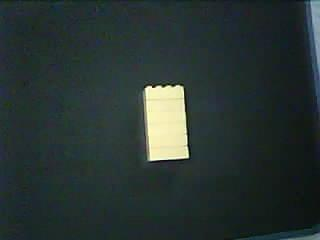lego: (140, 84, 189, 162)
